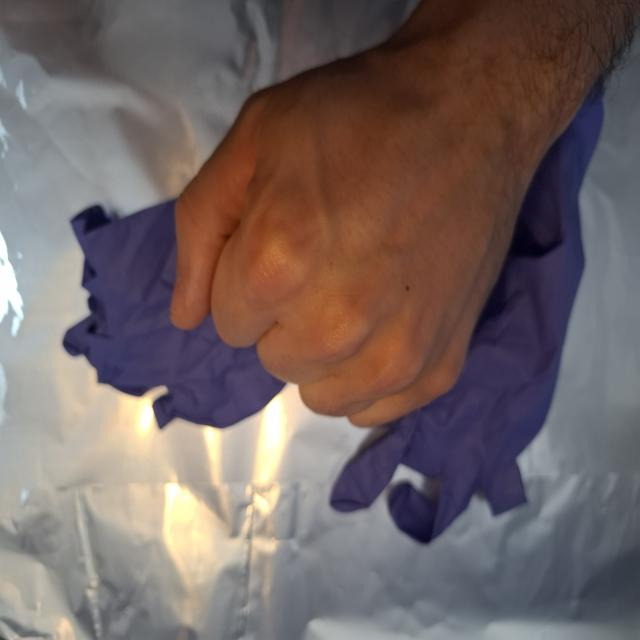glove_off: (166, 0, 558, 431)
